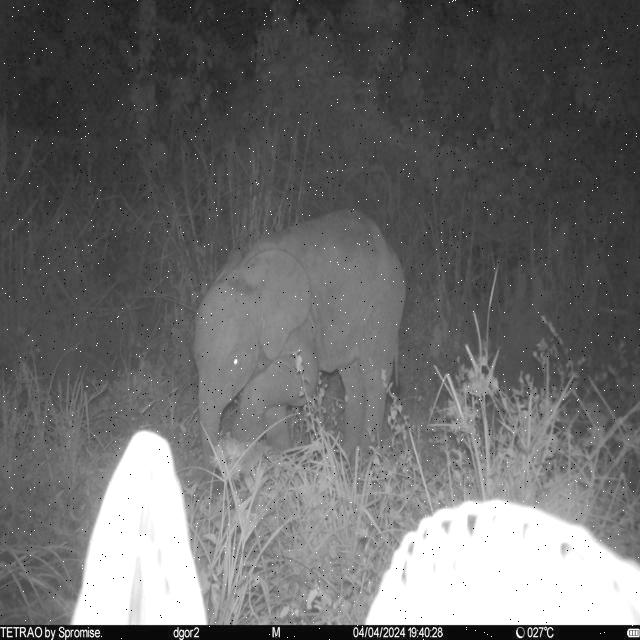calf: (188, 207, 410, 475)
ear: (247, 250, 314, 362)
